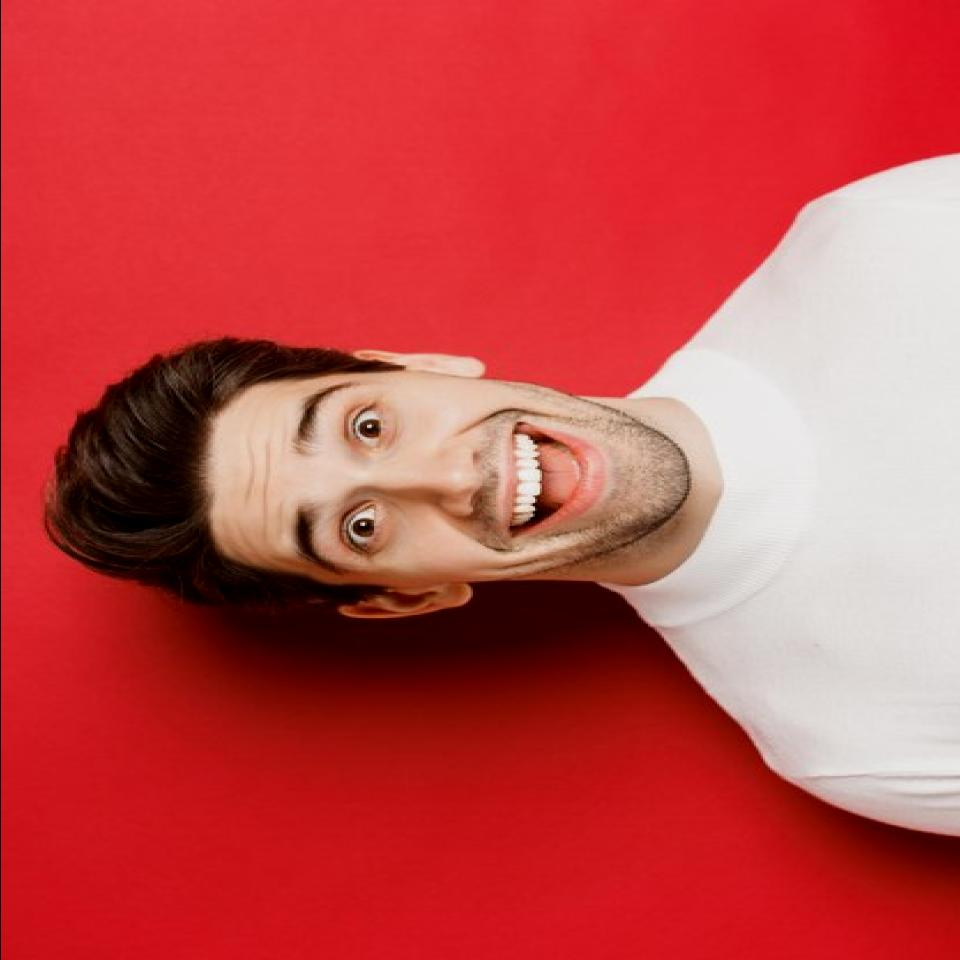Happiness: (207, 368, 691, 582)
